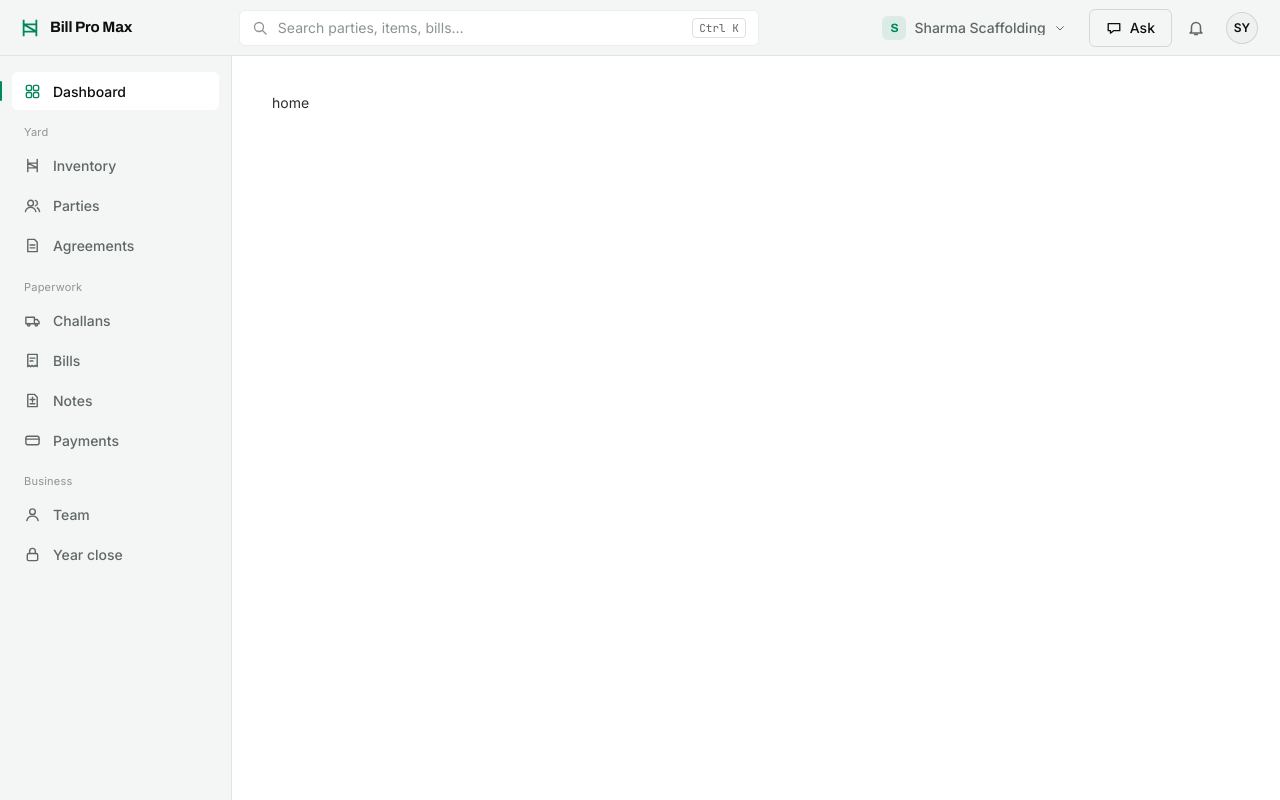
Test: Layout › navigates to business settings from the business menu
Click the button "S Sharma Scaffolding" at (974, 28), box x1=866 y1=8 x2=1083 y2=46
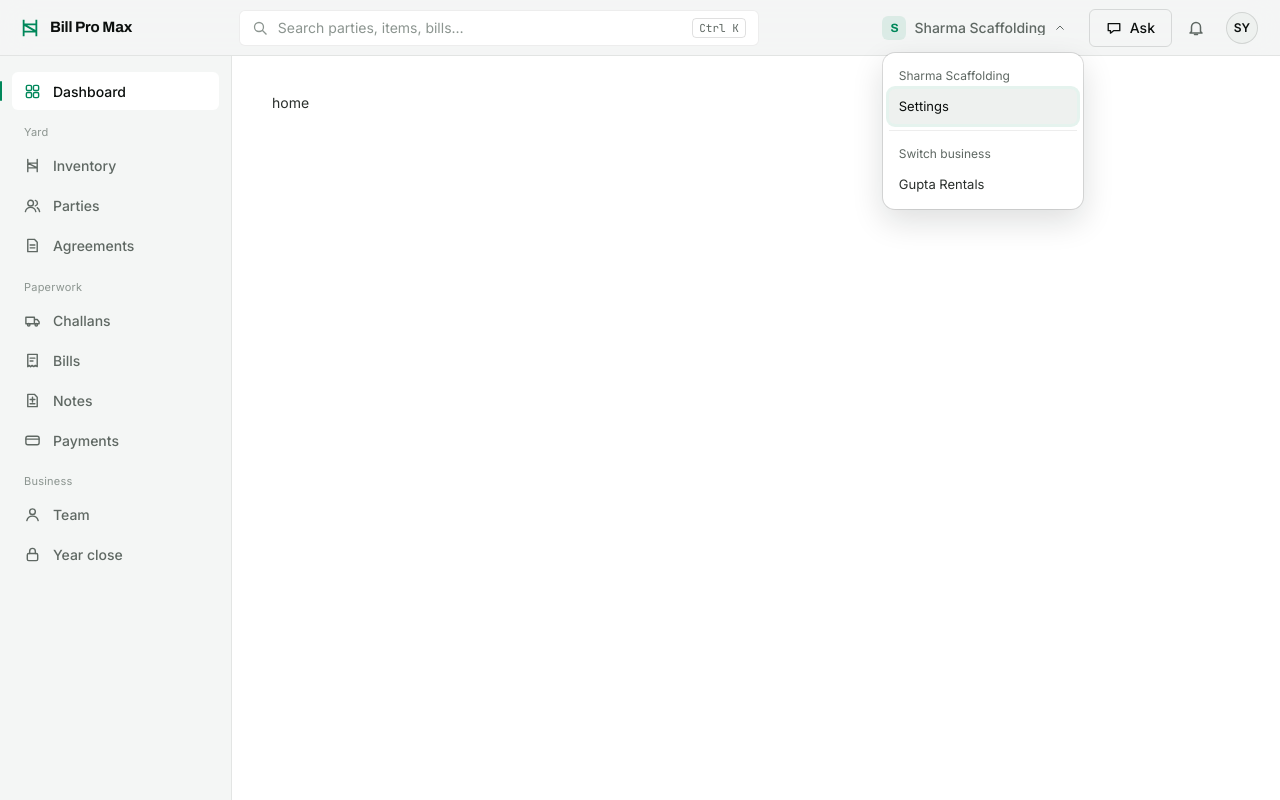
Click the menu item "Settings" at (983, 106), box x1=889 y1=88 x2=1077 y2=124
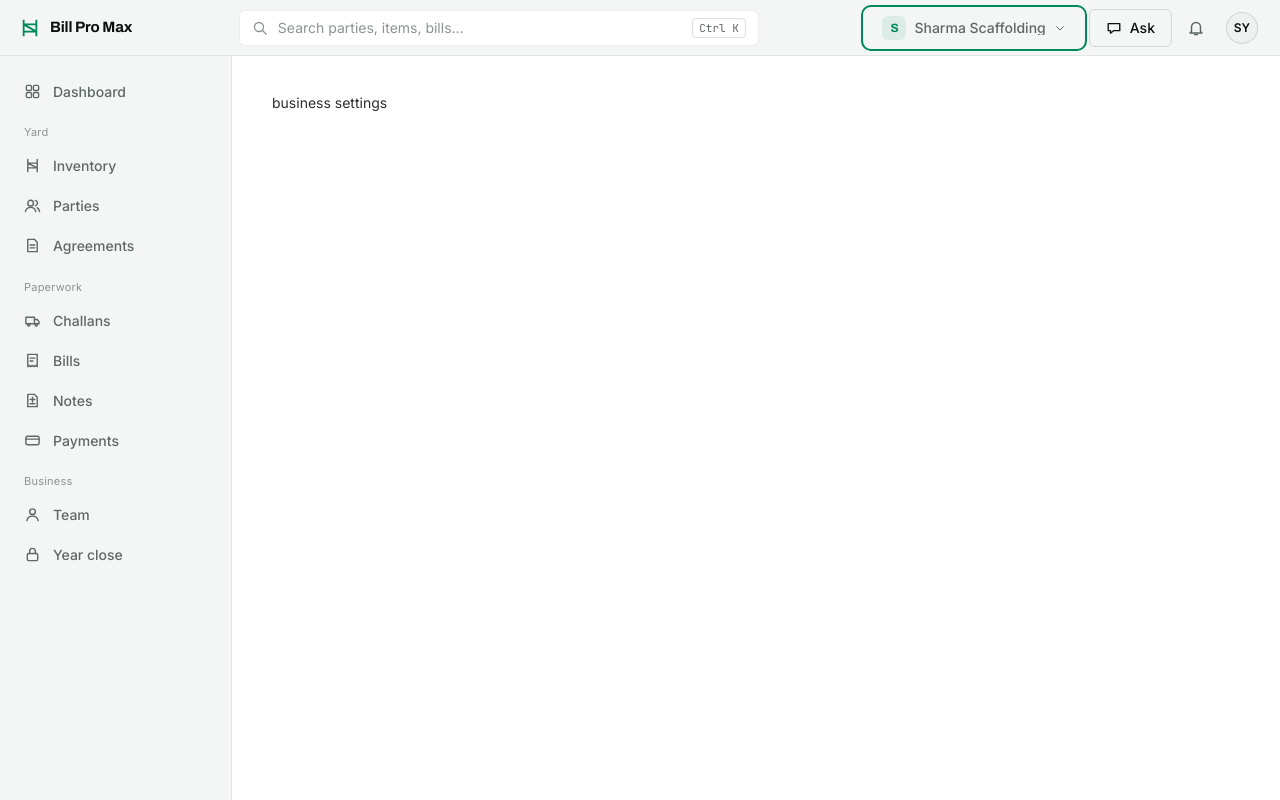
Expected: the text "business settings" is shown, x1=272 y1=94 x2=387 y2=111
Expected: the menu is gone
